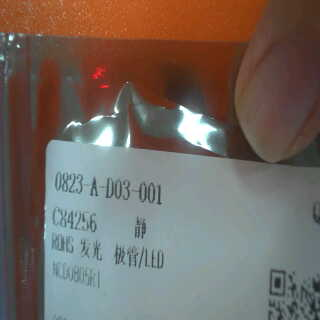LED: (77, 237, 166, 272)
